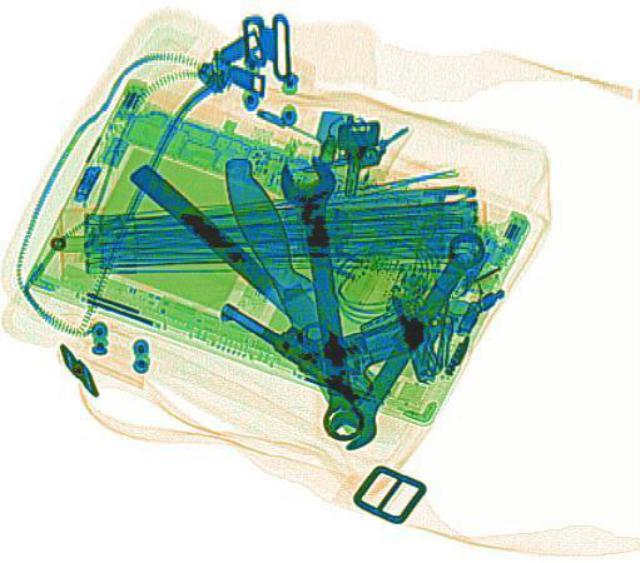Gun: (211, 234, 433, 407)
Knife: (125, 160, 382, 387), (205, 150, 362, 391)
Wrench: (315, 224, 501, 453), (274, 151, 372, 440)
